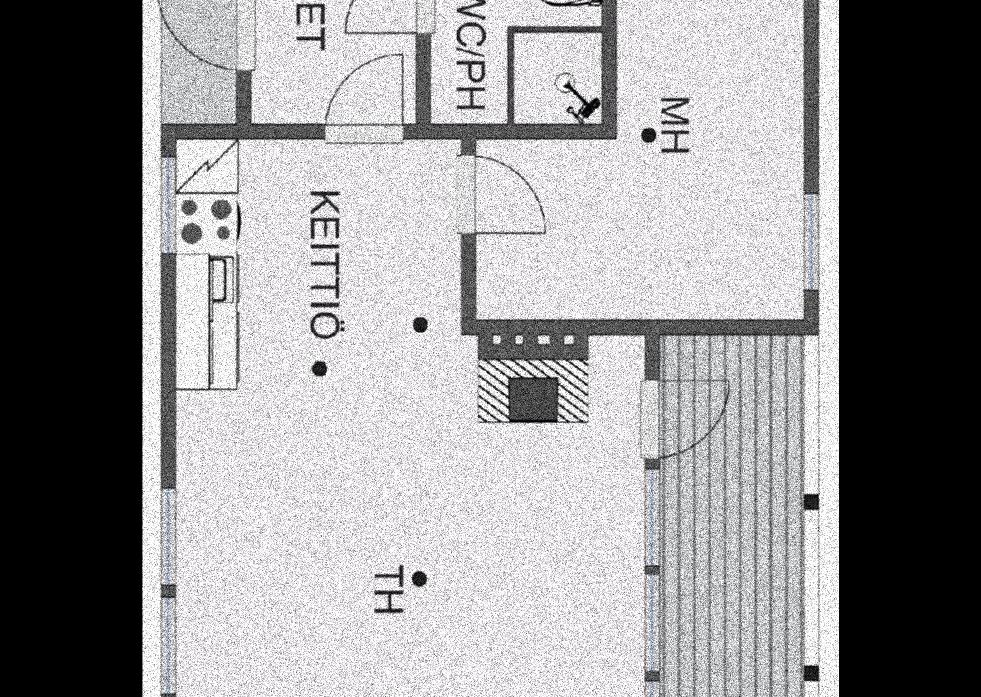door: (317, 49, 407, 147), (638, 375, 735, 459), (456, 158, 554, 241), (155, 0, 253, 72), (341, 0, 437, 39)
window: (177, 138, 648, 697), (477, 0, 806, 319), (661, 331, 796, 697), (429, 0, 602, 124), (252, 0, 414, 121), (163, 0, 240, 124), (513, 33, 603, 123), (158, 152, 181, 250), (158, 487, 179, 585), (643, 575, 662, 673), (158, 595, 175, 695), (644, 469, 659, 564), (805, 193, 819, 290)
